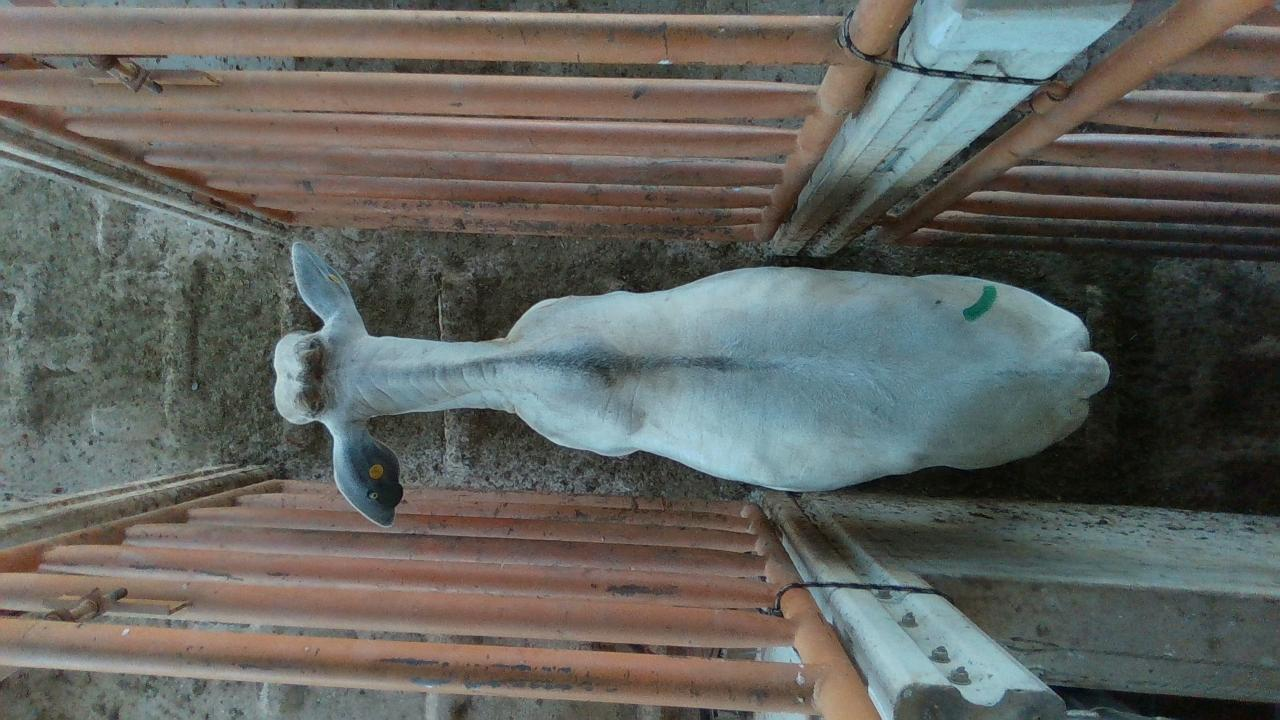cattle: (271, 240, 1111, 527)
